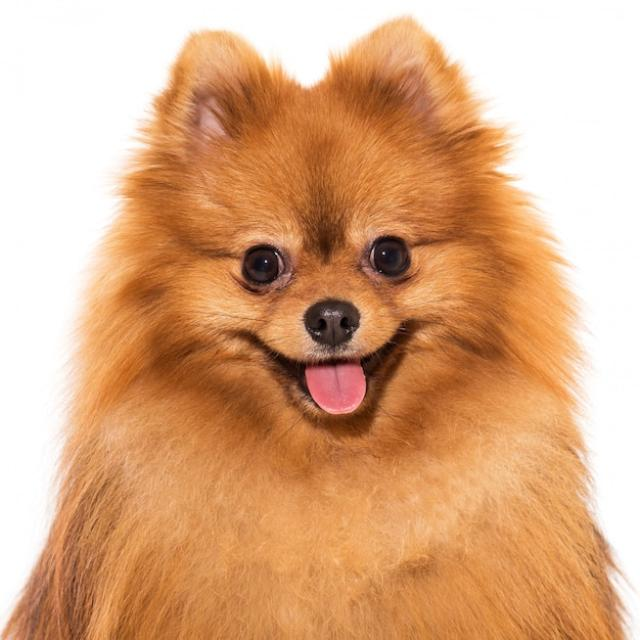Person: (116, 108, 494, 424)
